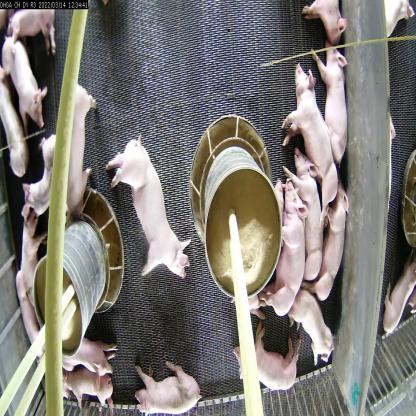Pig: (115, 131, 191, 287), (59, 73, 109, 214), (286, 62, 338, 195), (0, 14, 55, 138), (238, 327, 301, 409), (0, 96, 38, 211), (317, 36, 349, 166), (291, 157, 327, 268), (273, 183, 300, 325), (17, 229, 49, 348), (313, 189, 345, 301), (140, 350, 195, 415), (18, 148, 72, 214), (292, 292, 328, 366), (64, 370, 118, 413), (54, 343, 103, 376)
